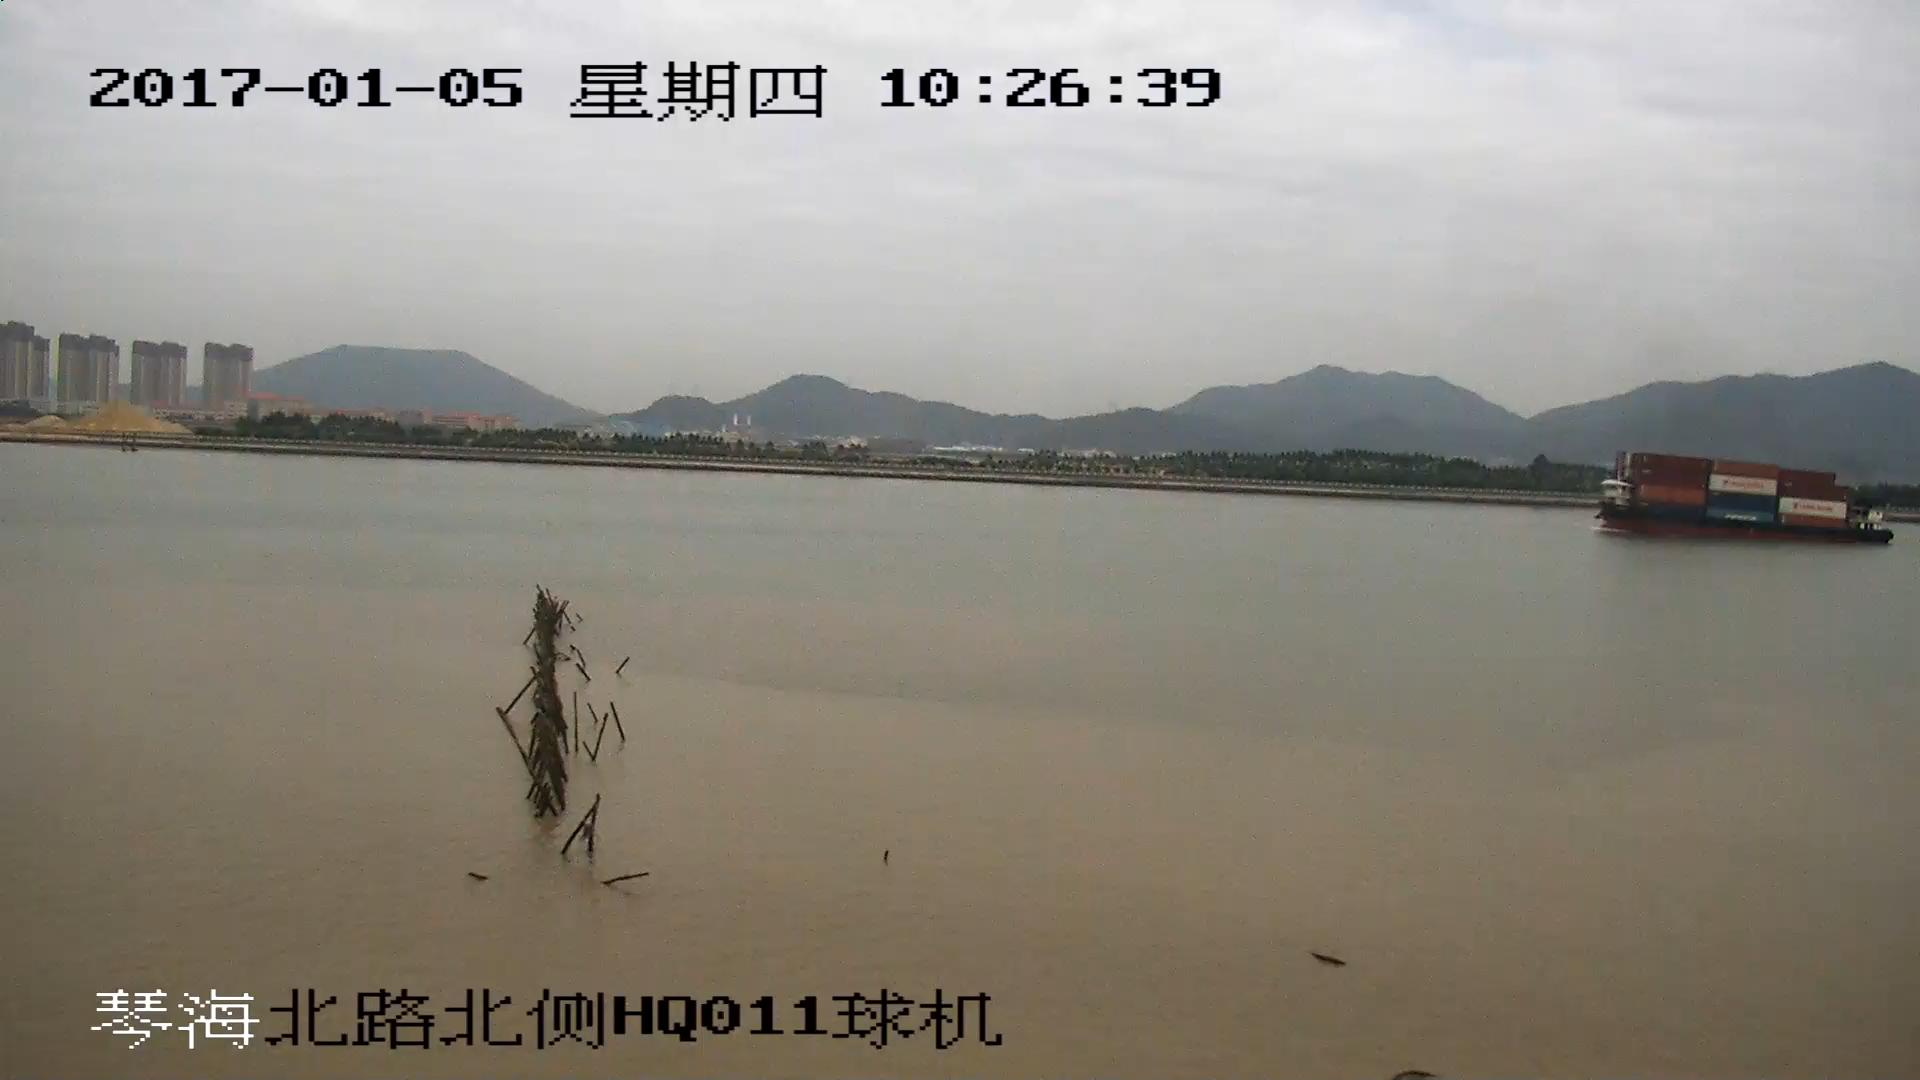container ship: (1598, 452, 1890, 540)
